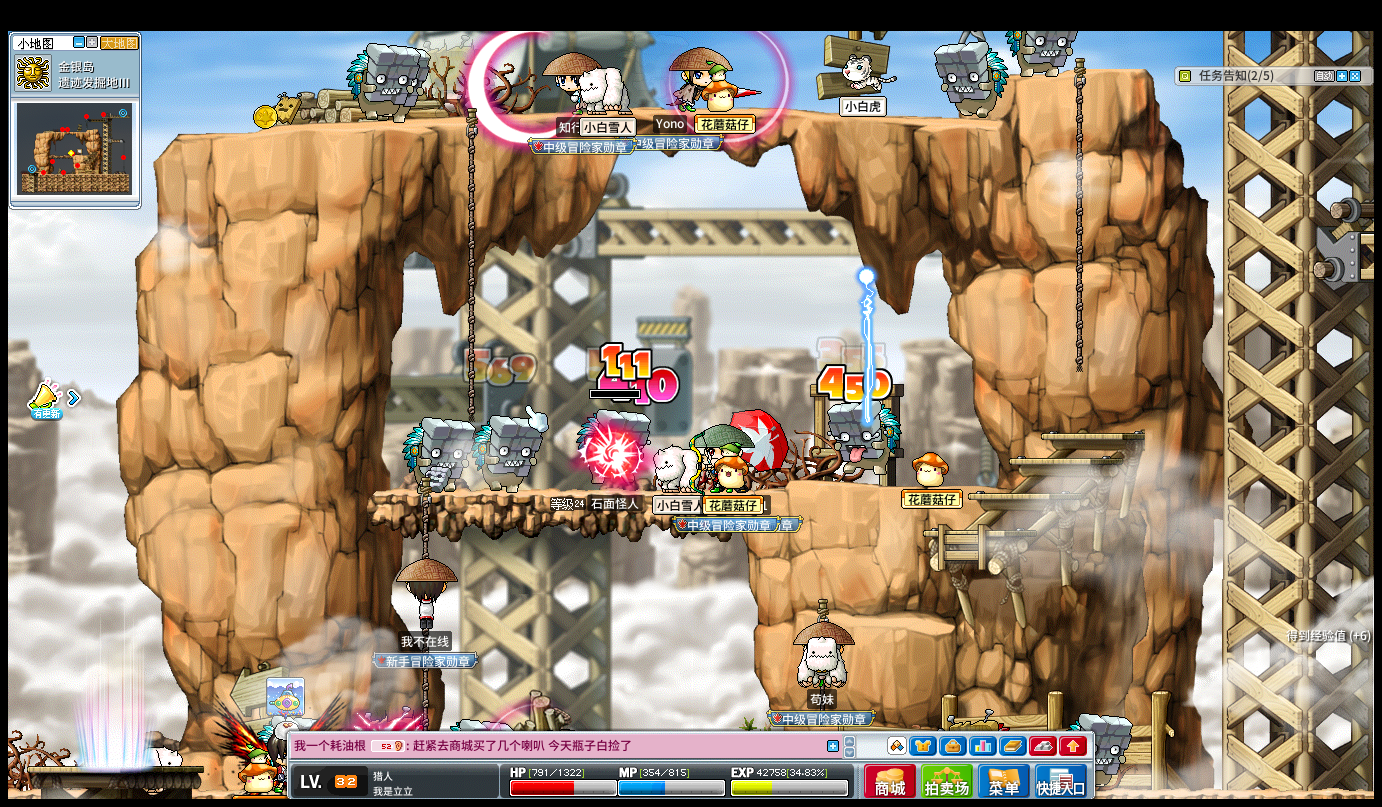floor: (145, 104, 1042, 141), (372, 487, 739, 500), (768, 481, 1009, 491), (847, 613, 956, 634), (1013, 66, 1152, 79), (1025, 63, 1152, 77), (848, 481, 1006, 491), (1039, 429, 1142, 440), (924, 528, 1033, 538), (1006, 456, 1117, 464), (968, 491, 1079, 499)
monster: (346, 40, 428, 124), (827, 399, 902, 482), (574, 408, 649, 490), (933, 40, 1007, 120), (473, 413, 544, 492), (402, 416, 470, 494), (1084, 714, 1132, 788), (1014, 28, 1058, 78)
rope: (1072, 56, 1086, 390), (465, 108, 476, 423), (416, 482, 431, 559), (420, 668, 430, 723)
